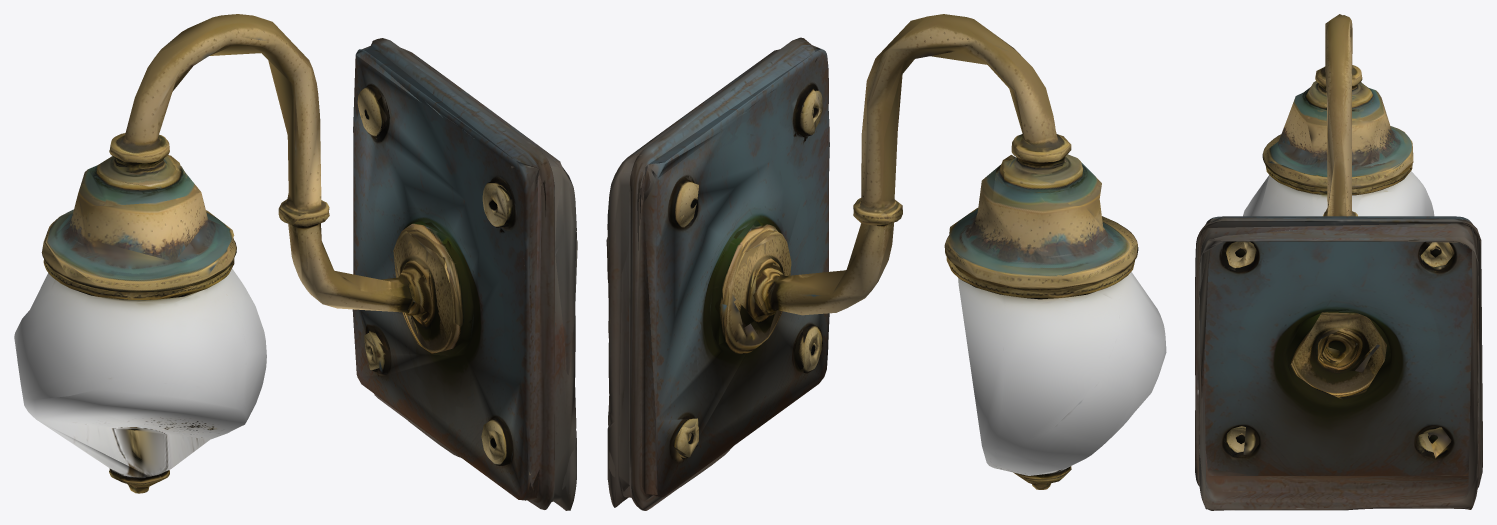
Rendered from lhi_wall_sconce.glb.
The picture shows the model from 3 angles, left to right: view 1: azimuth 30°, elevation 25°; view 2: azimuth 150°, elevation 25°; view 3: azimuth 270°, elevation 25°; orthographic projection. The views are drawn at different scales.
Visible parts, largest first — view 1: material; view 2: material; view 3: material.
Boxes of the visible parts, x1,y1,x2,y2 form: material: [14, 14, 577, 510]; material: [606, 14, 1166, 510]; material: [1195, 14, 1482, 510].
Size of the model in its own units: 0.7695 by 0.7968 by 0.5354.
Materials: 1 (1 with a texture image).
